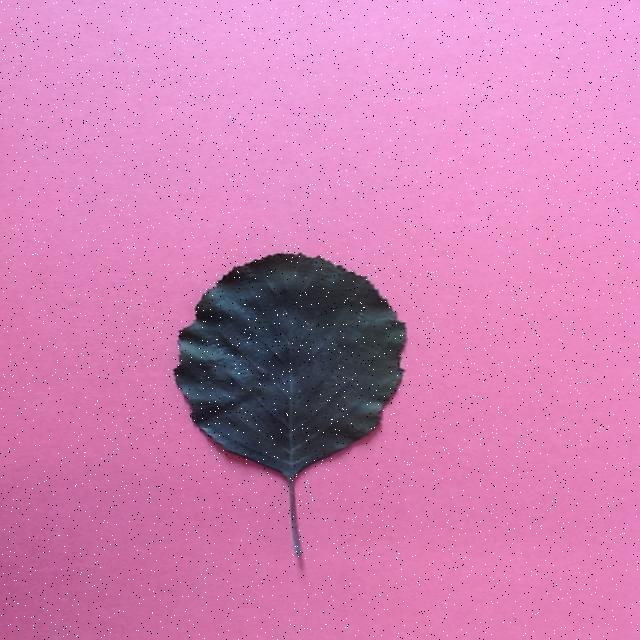foliage: (172, 249, 410, 582)
